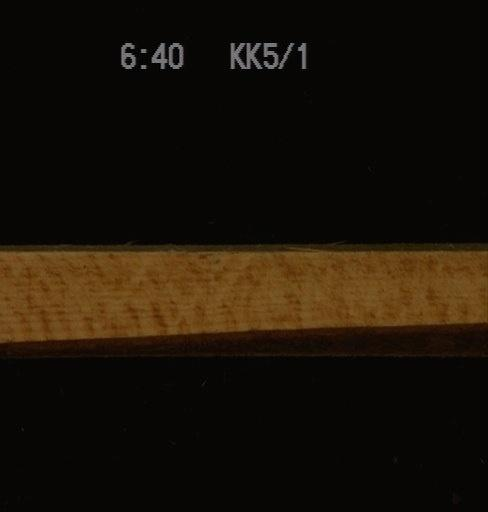wave: (0, 319, 487, 358)
